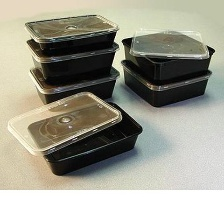plastic_box: (0, 85, 148, 181), (18, 7, 123, 115), (114, 21, 220, 113)
